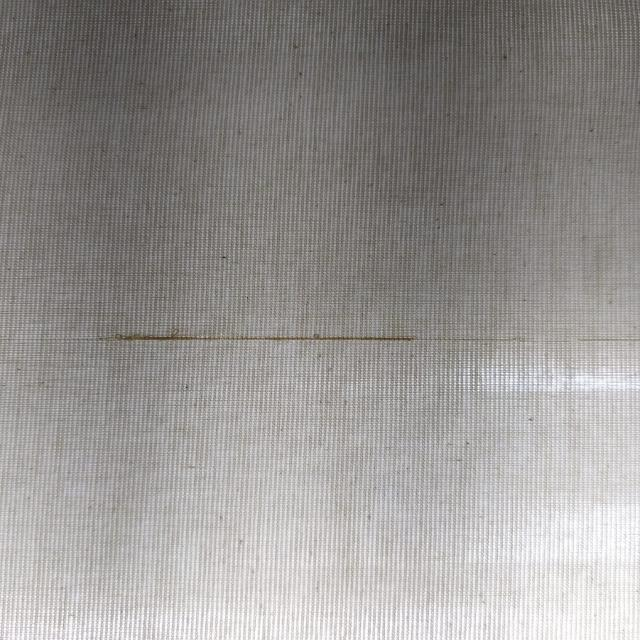Thread_other: (54, 308, 608, 374)
